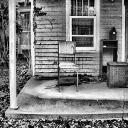chair_success: (54, 34, 82, 98)
